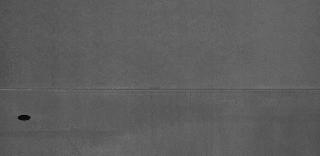punching hole: (16, 113, 32, 123)
welding line: (4, 85, 318, 95)
